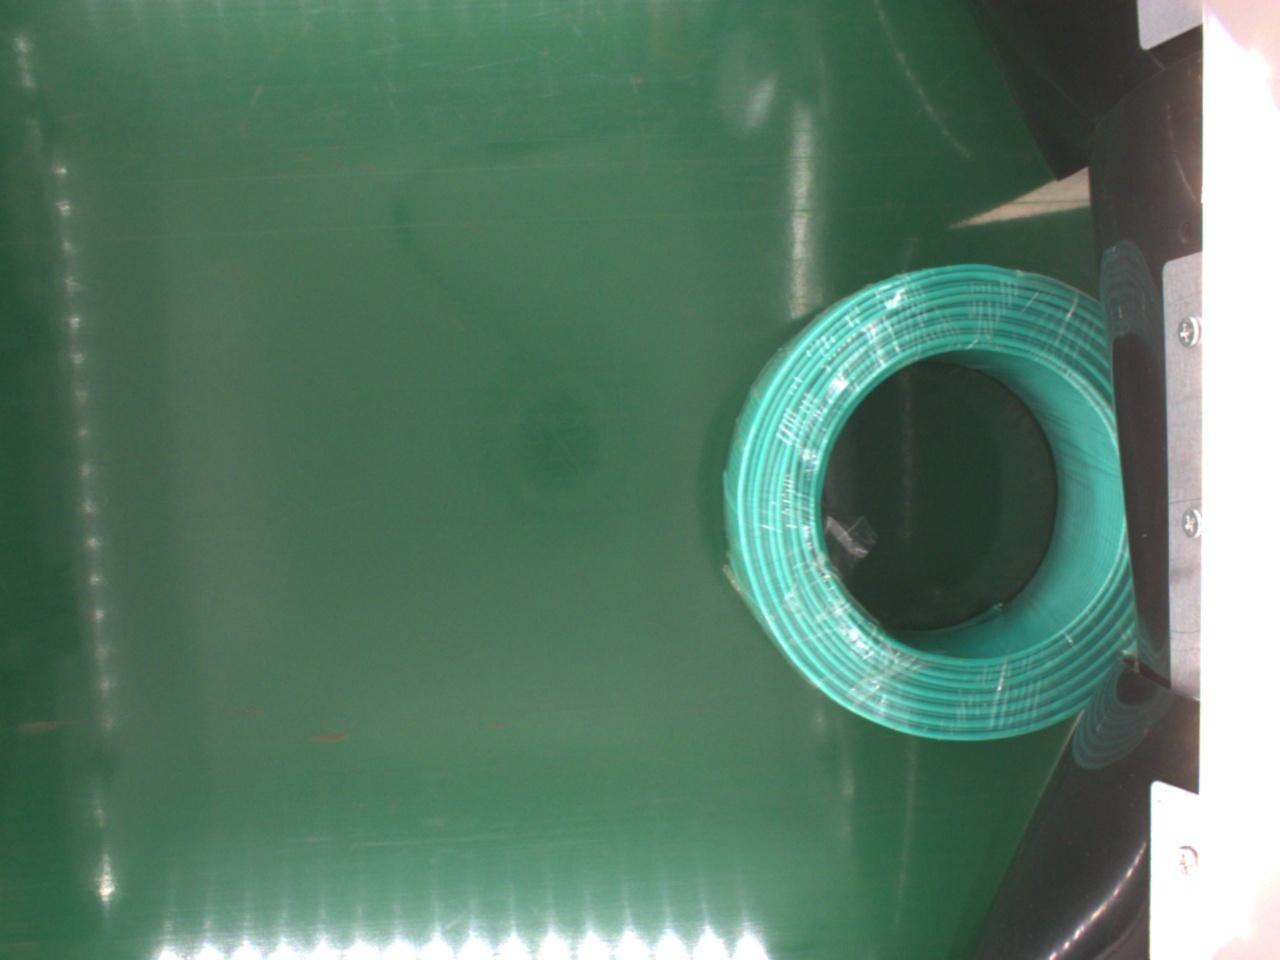green: (719, 263, 1141, 745)
